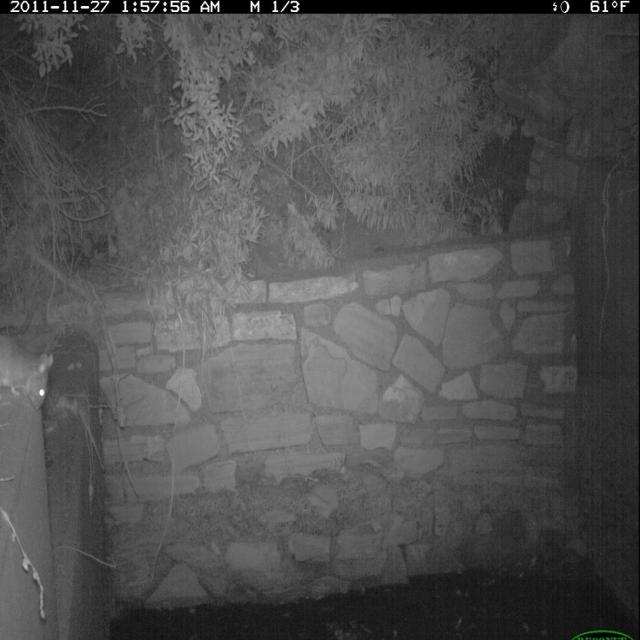rodent: (4, 325, 70, 422)
